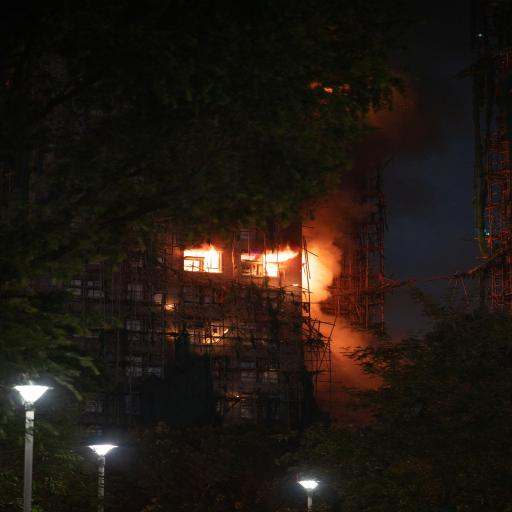buildingfire: (136, 115, 512, 369)
